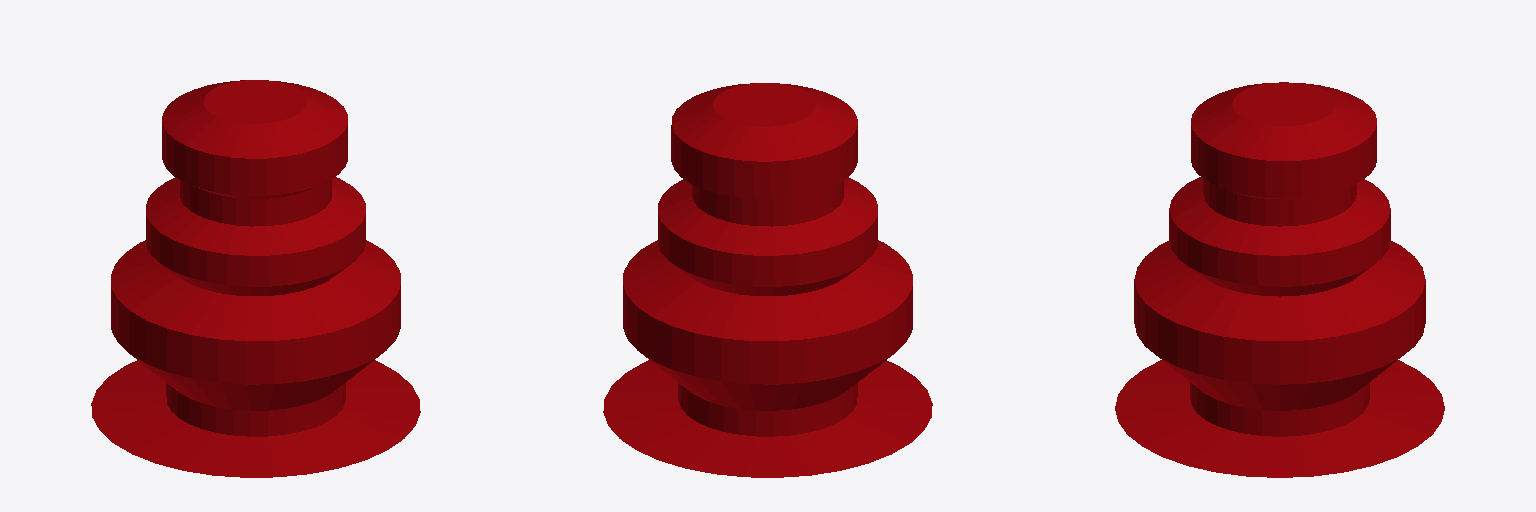
File: 3BulgeVaseRed.obj
3 views of the same model, side by side, from view 1: azimuth 30°, elevation 25°; view 2: azimuth 150°, elevation 25°; view 3: azimuth 270°, elevation 25° (orthographic).
Parts seen in each view (by area): view 1: Cylinder; view 2: Cylinder; view 3: Cylinder.
Part boxes in pixels (left/top/right/bottom): Cylinder: left=91, top=80, right=420, bottom=477; Cylinder: left=603, top=83, right=932, bottom=477; Cylinder: left=1115, top=82, right=1444, bottom=477.
Bounding box in the file's own units: 0.5907 × 0.6015 × 0.5907.